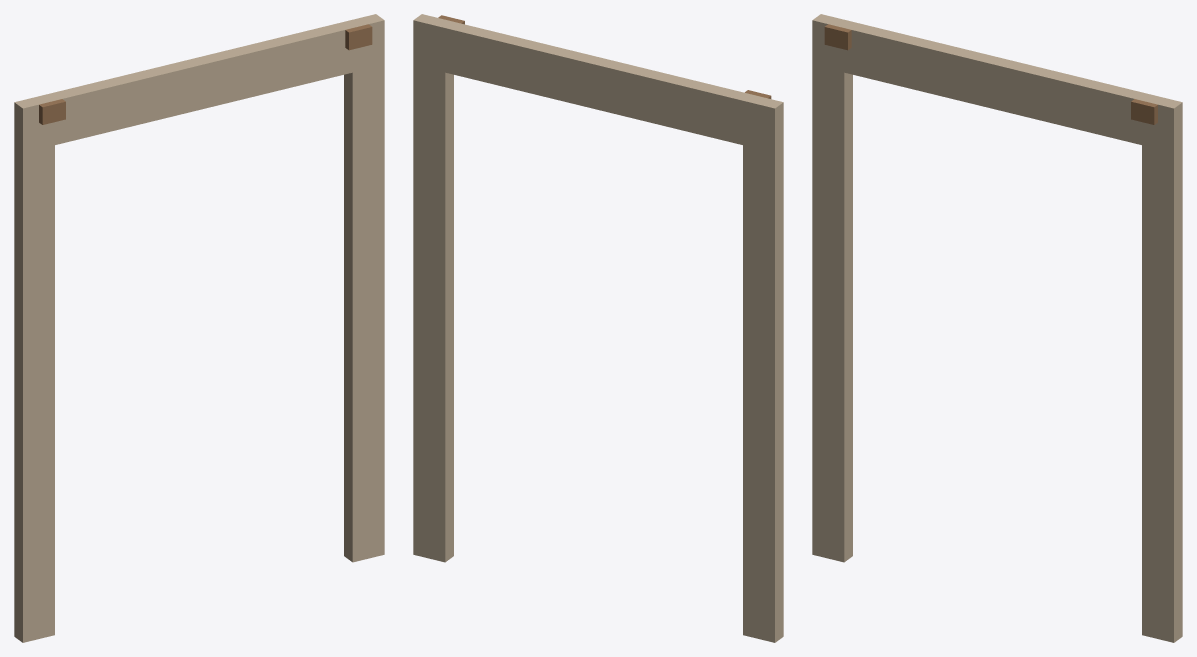
3 views of the same model, side by side, from view 1: azimuth 30°, elevation 25°; view 2: azimuth 150°, elevation 25°; view 3: azimuth 330°, elevation 25° (orthographic).
Parts seen in each view (by area): view 1: left-jamb, right-jamb, header, step-0.72, step--0.72; view 2: left-jamb, right-jamb, header; view 3: right-jamb, left-jamb, header, step--0.72, step-0.72.
Part boxes in pixels (x1=…): left-jamb: x1=14, y1=145, x2=54, y2=642; right-jamb: x1=344, y1=65, x2=384, y2=562; header: x1=14, y1=14, x2=384, y2=152; step-0.72: x1=345, y1=24, x2=372, y2=50; step--0.72: x1=39, y1=99, x2=65, y2=124; left-jamb: x1=743, y1=145, x2=783, y2=642; right-jamb: x1=413, y1=65, x2=453, y2=562; header: x1=413, y1=14, x2=783, y2=152; right-jamb: x1=1142, y1=145, x2=1182, y2=642; left-jamb: x1=812, y1=65, x2=852, y2=562; header: x1=812, y1=14, x2=1182, y2=152; step--0.72: x1=824, y1=24, x2=851, y2=50; step-0.72: x1=1131, y1=99, x2=1157, y2=124.
Bounding box in the file's own units: 1.7 × 2.4 × 0.1.
